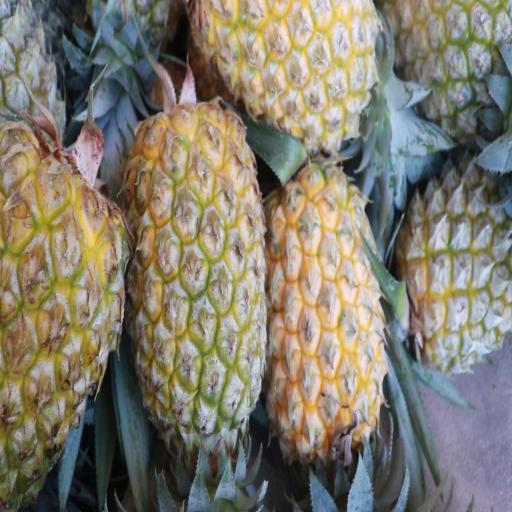------------------------------: (400, 154, 512, 368)
Pineapple - v8 v1: (130, 110, 264, 463), (0, 132, 125, 507), (267, 166, 381, 464), (193, 0, 372, 146), (392, 0, 511, 130)
